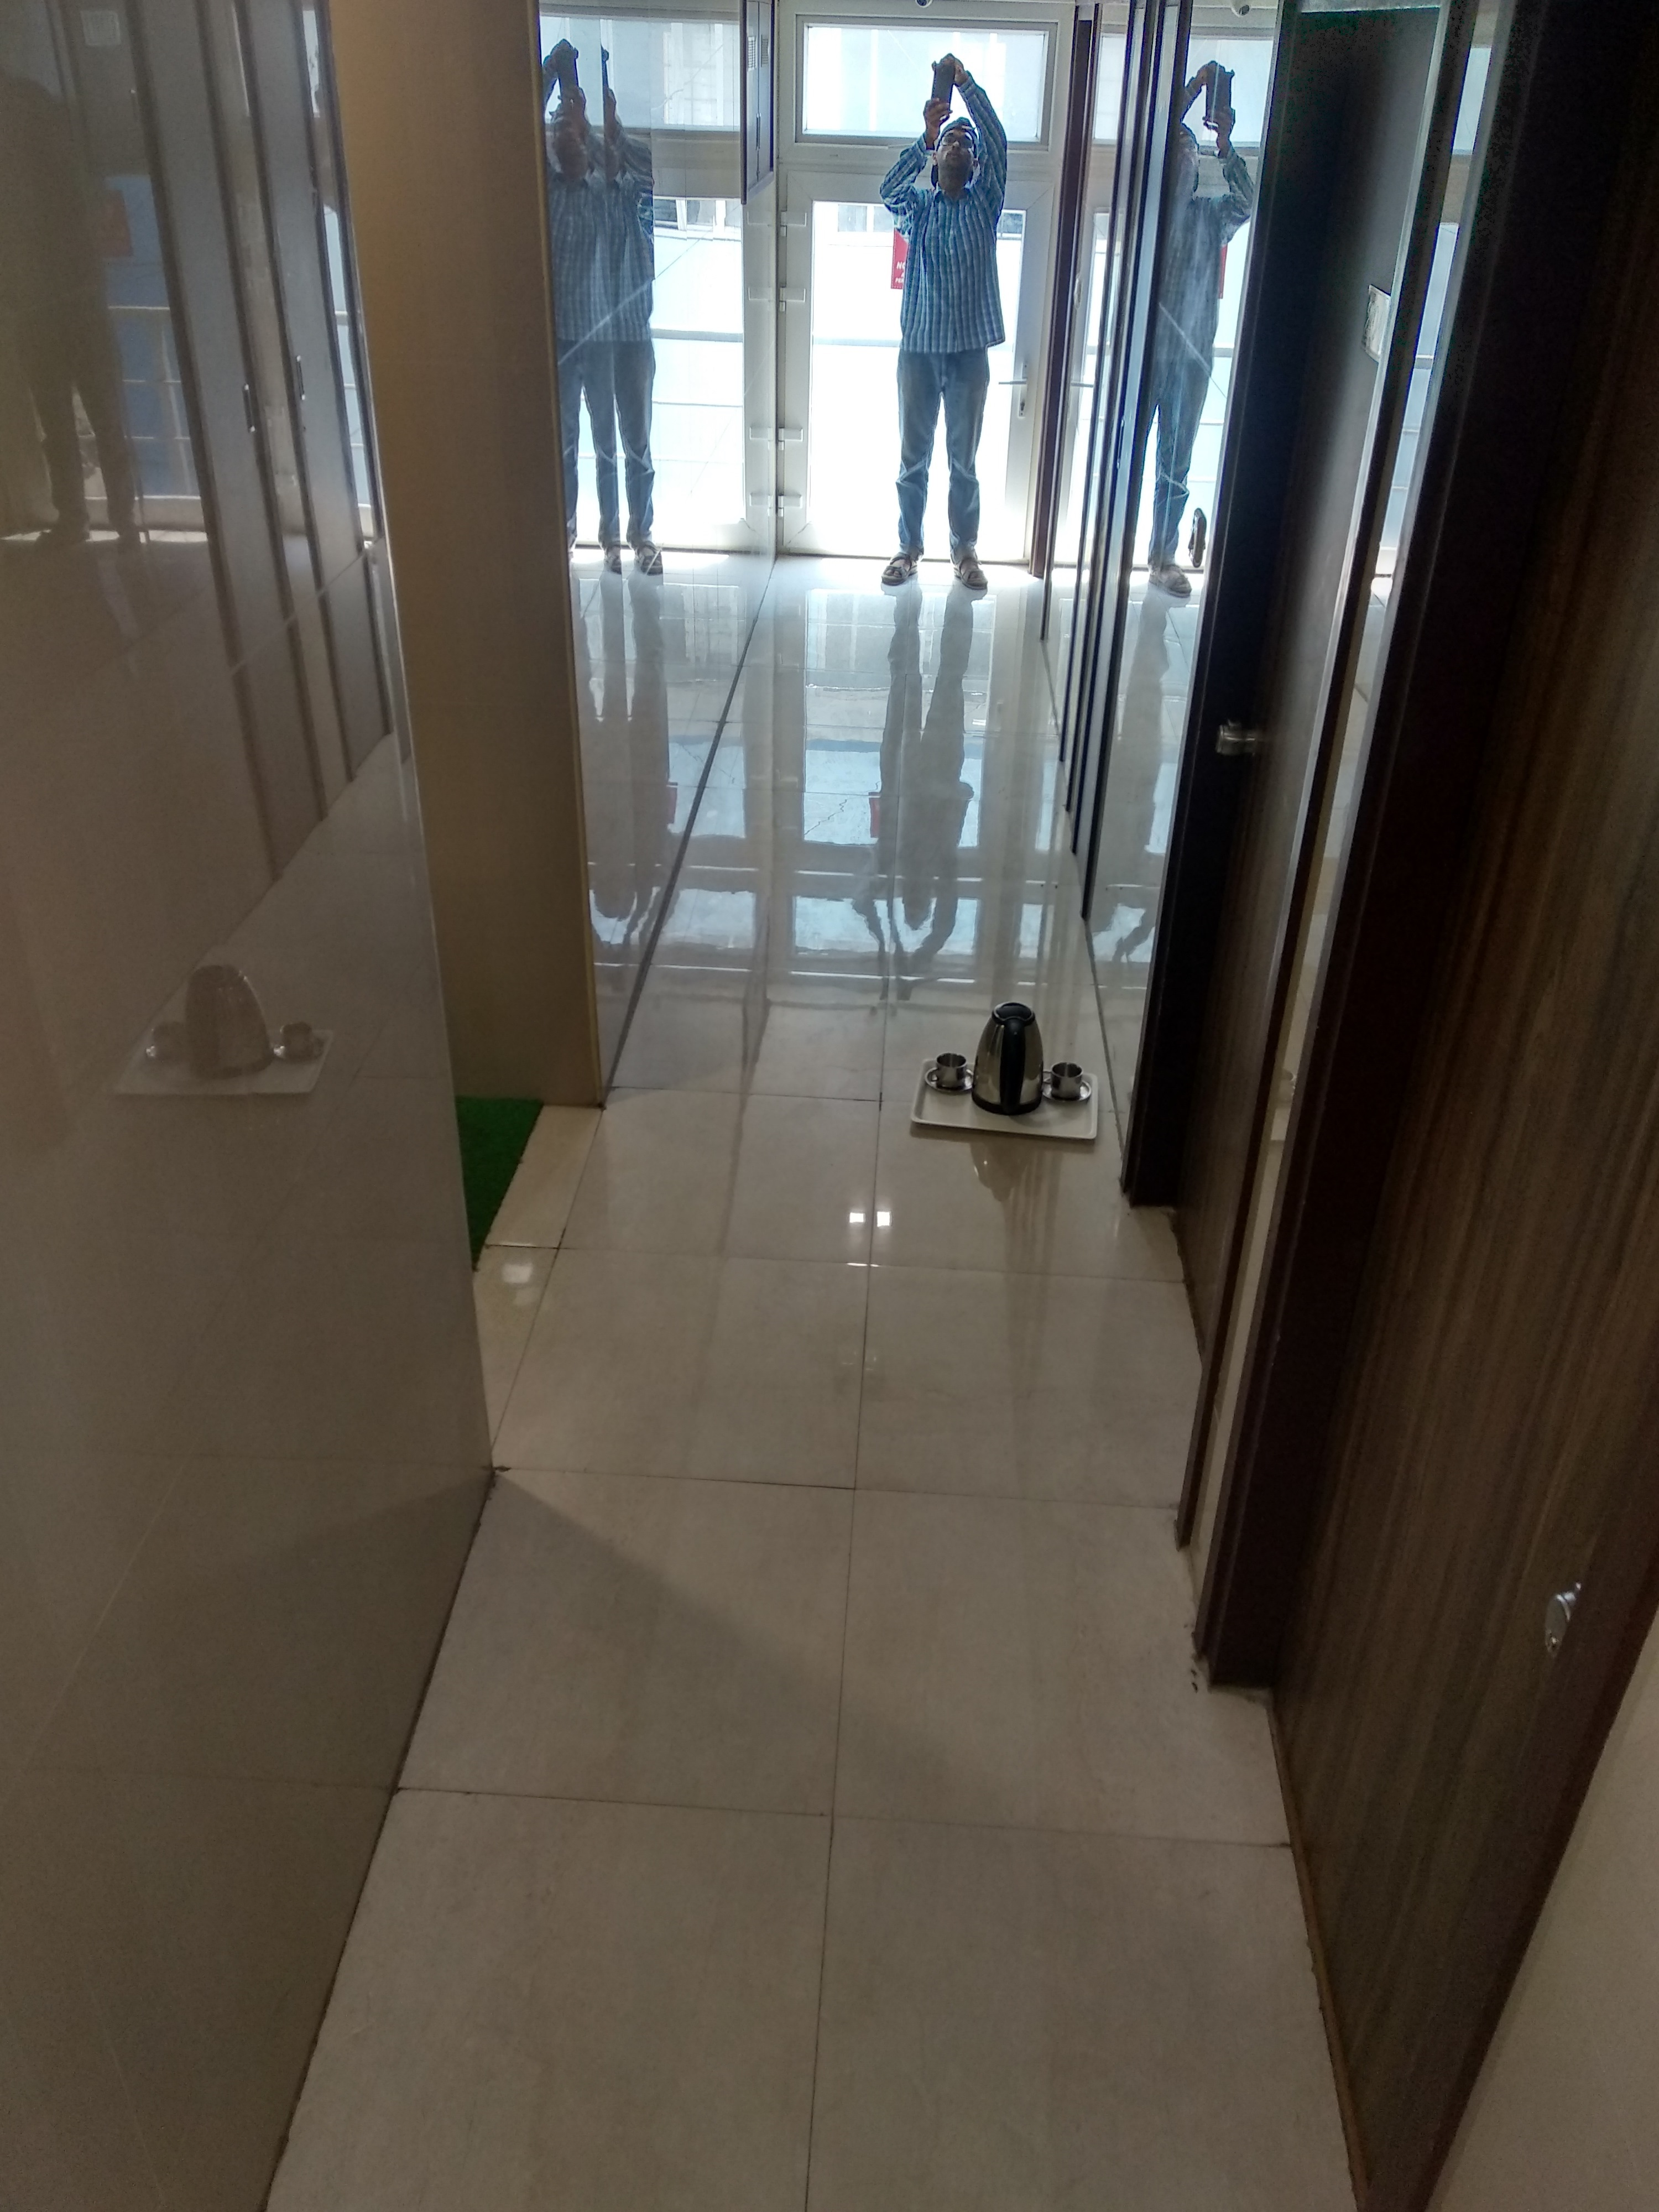CUP: (1051, 1059, 1091, 1104), (927, 1049, 969, 1090)
JUG: (971, 1001, 1047, 1116)
